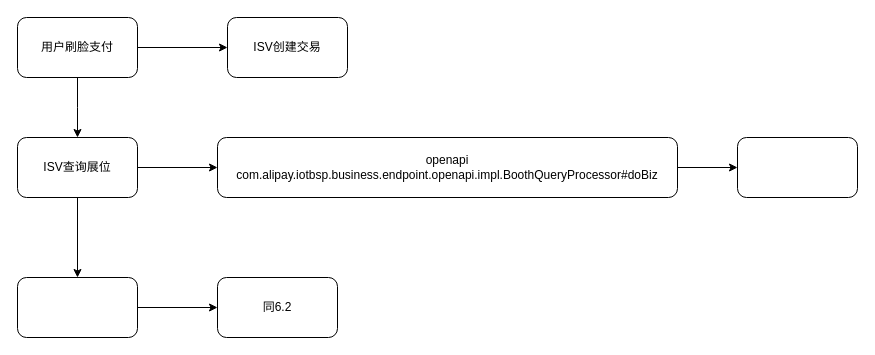
This 875x355 diagram has some shape labels left out. Each missing label, with the centre of its shape:
"二阶段推荐领取活动模型 同（6.2）" goes at [797,167].
"用户点击领取" goes at [77,307].
